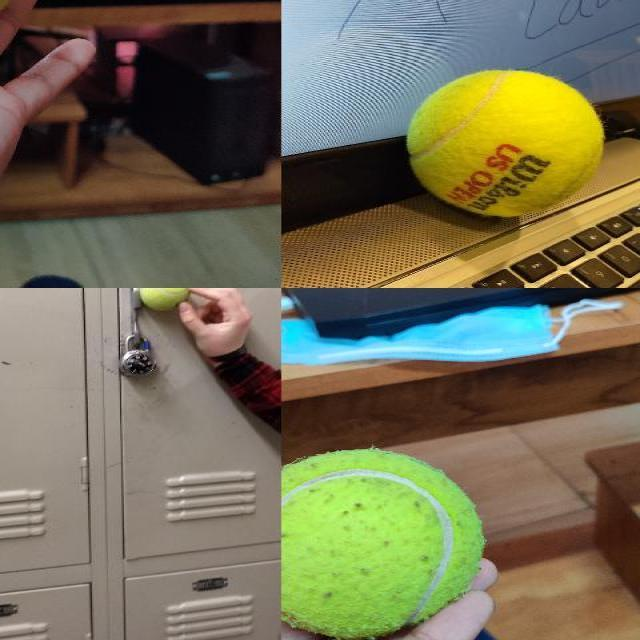tennis-ball: (281, 448, 483, 639), (403, 69, 605, 218), (139, 288, 193, 312)
